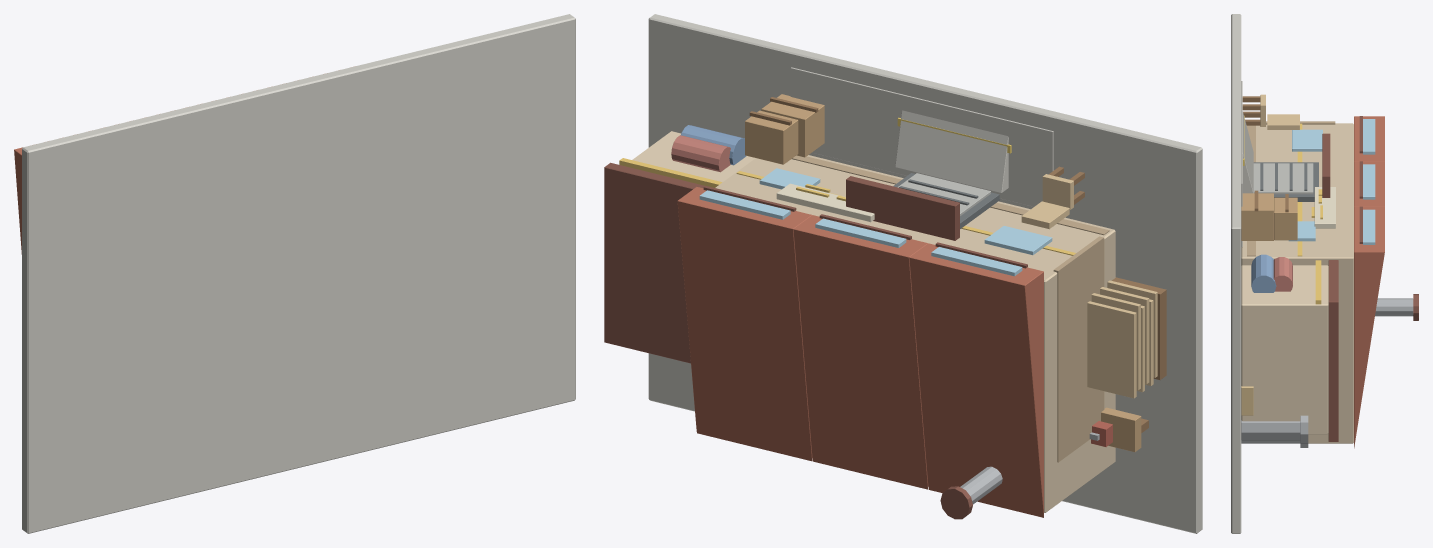
File: furniturefactory.fbx
3 views of the same model, side by side, from view 1: azimuth 30°, elevation 25°; view 2: azimuth 150°, elevation 25°; view 3: azimuth 270°, elevation 25° (orthographic). The views are drawn at different scales.
Visible parts, largest first — view 1: GroundBase; view 2: GroundBase, SawtoothRoof_01, SawtoothRoof_02, SawtoothRoof_03, SideLoadingWing_Roof, MainWorkshop, DrivewayPad, MainWorkshop_SideTrim_Left, LoadingRamp, BoardStack_Plank_06, LoadingAwning, FurnitureCrateStack_Top (+22 smaller); view 3: SideLoadingWing, MainWorkshop, GroundBase, SawtoothRoof_03, SideLoadingWing_Roof, LoadingDoor, FurnitureCrateStack, DustCollector, FurnitureCrateStack_Top, SawtoothRoof_02, SawtoothRoof_01, TextileRoll_01 (+18 smaller).
Part boxes in pixels (left/top/right/bottom): GroundBase: left=22, top=14, right=575, bottom=533; GroundBase: left=648, top=14, right=1202, bottom=533; SawtoothRoof_01: left=909, top=243, right=1043, bottom=517; SawtoothRoof_02: left=793, top=215, right=928, bottom=489; SawtoothRoof_03: left=677, top=187, right=812, bottom=461; SideLoadingWing_Roof: left=604, top=162, right=704, bottom=363; MainWorkshop: left=715, top=155, right=1115, bottom=512; DrivewayPad: left=790, top=67, right=1053, bottom=206; MainWorkshop_SideTrim_Left: left=1053, top=236, right=1104, bottom=462; LoadingRamp: left=895, top=110, right=1008, bottom=192; BoardStack_Plank_06: left=1087, top=301, right=1136, bottom=398; LoadingAwning: left=846, top=176, right=959, bottom=240; FurnitureCrateStack_Top: left=745, top=110, right=798, bottom=164; SideLoadingWing: left=1241, top=265, right=1328, bottom=434; MainWorkshop: left=1241, top=123, right=1353, bottom=443; GroundBase: left=1231, top=14, right=1241, bottom=533; SawtoothRoof_03: left=1354, top=207, right=1384, bottom=448; SideLoadingWing_Roof: left=1328, top=260, right=1338, bottom=441; LoadingDoor: left=1253, top=163, right=1313, bottom=194; FurnitureCrateStack: left=1241, top=193, right=1273, bottom=240; DustCollector: left=1241, top=420, right=1300, bottom=443; FurnitureCrateStack_Top: left=1274, top=197, right=1297, bottom=240; SawtoothRoof_02: left=1354, top=161, right=1384, bottom=206; SawtoothRoof_01: left=1354, top=116, right=1384, bottom=161; TextileRoll_01: left=1251, top=254, right=1276, bottom=292.
Bounding box in the file's own units: 900 × 600 × 333.
